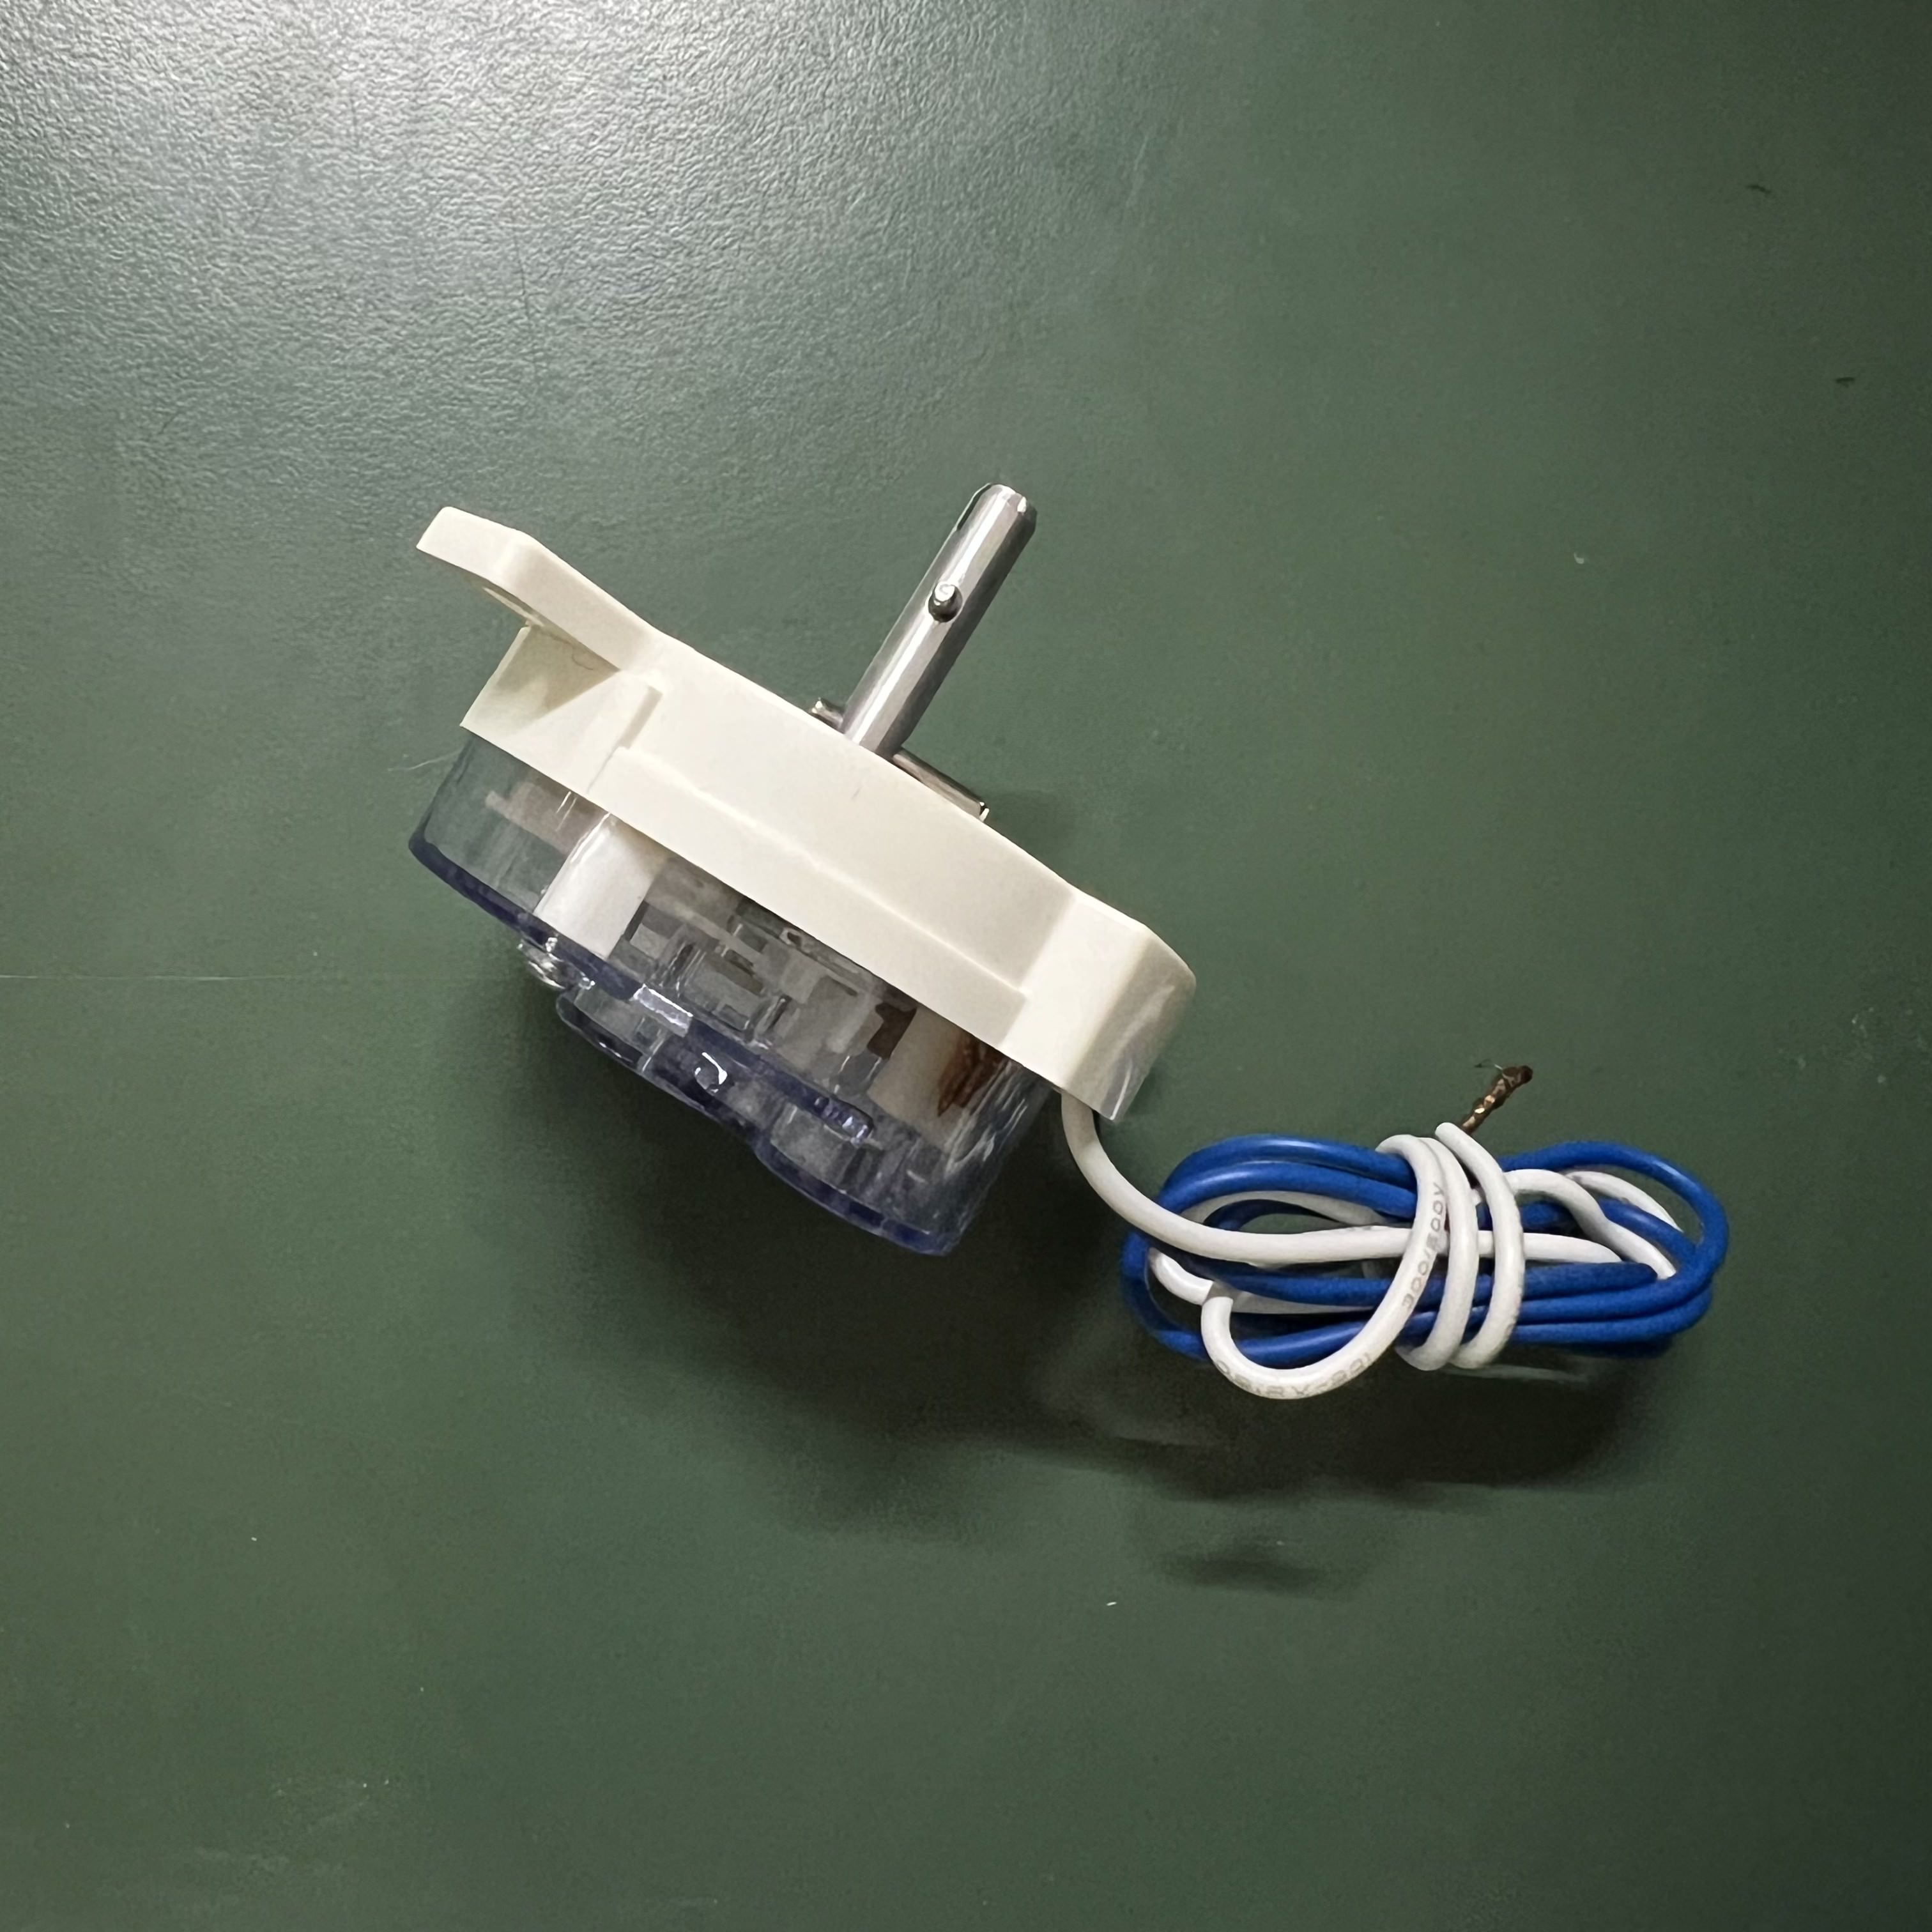circle_timer: (382, 439, 1741, 1403)
